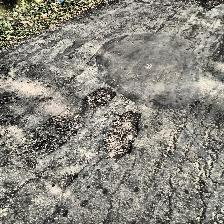pothole: (21, 109, 81, 153), (102, 108, 140, 160), (82, 88, 118, 110), (188, 0, 224, 10)
